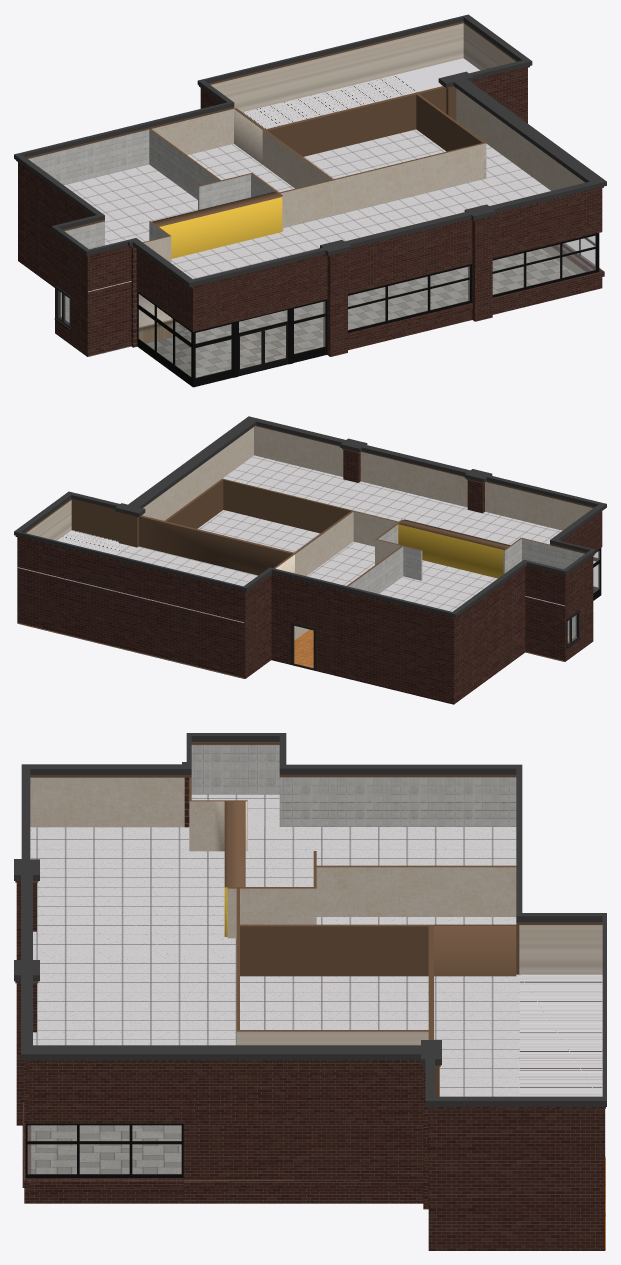
The model's file is house.fbx.
3 renders of one model, top to bottom at view 1: azimuth 30°, elevation 25°; view 2: azimuth 150°, elevation 25°; view 3: azimuth 270°, elevation 25°, orthographic. The views are drawn at different scales.
Visible parts, largest first — view 1: Cube.001, Cube, Cube.002, Cube.005, Cube.003, Cube.006, Cube.008, Cube.007, Cube.004; view 2: Cube.001, Cube, Cube.002, Cube.005; view 3: Cube.001, Cube, Cube.004, Cube.002.
Part boxes in pixels (x1,y1,x2,y2): Cube.001: [14, 14, 606, 356]; Cube: [64, 58, 550, 292]; Cube.002: [88, 249, 575, 377]; Cube.005: [137, 291, 327, 387]; Cube.003: [348, 264, 471, 332]; Cube.006: [492, 233, 597, 297]; Cube.008: [239, 329, 263, 374]; Cube.007: [263, 323, 287, 369]; Cube.004: [562, 233, 599, 272]; Cube.001: [14, 416, 606, 704]; Cube: [17, 455, 564, 623]; Cube.002: [17, 623, 574, 678]; Cube.005: [593, 548, 601, 600]; Cube.001: [14, 733, 606, 1250]; Cube: [30, 794, 605, 1157]; Cube.004: [25, 1123, 183, 1178]; Cube.002: [31, 1125, 605, 1250].
Bounding box in the file's own units: 6403 × 1232 × 4361.
